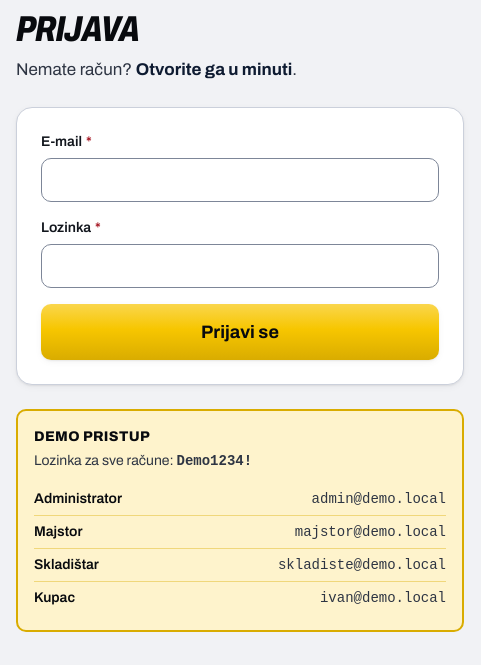
Scenario: obrazac za prijavu › neuspjelu prijavu objašnjava korisniku
Type "ivan@demo.local" into the field labelled "E-mail*".
click(240, 180); type("ivan@demo.local")  # box [41,158,439,202]
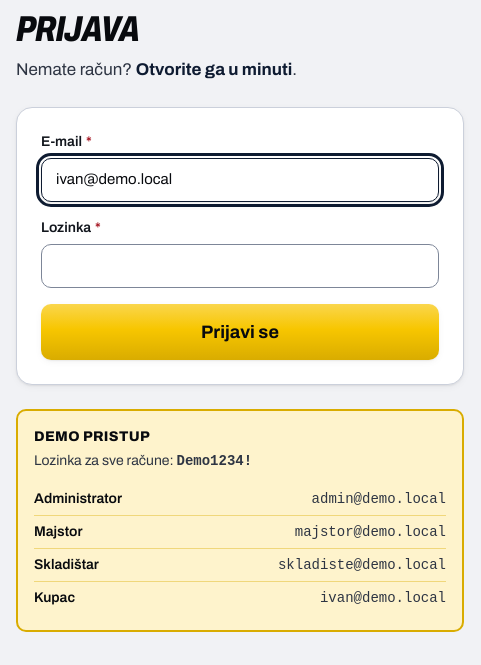
Type "krivo" into the password field labelled "Lozinka*".
click(240, 266); type("krivo")  # box [41,244,439,288]
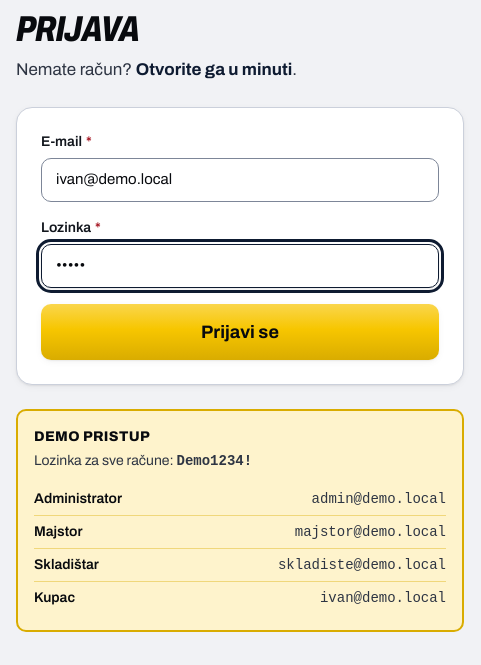
Click the button "Prijavi se".
click(240, 332)  # box [41,304,439,360]
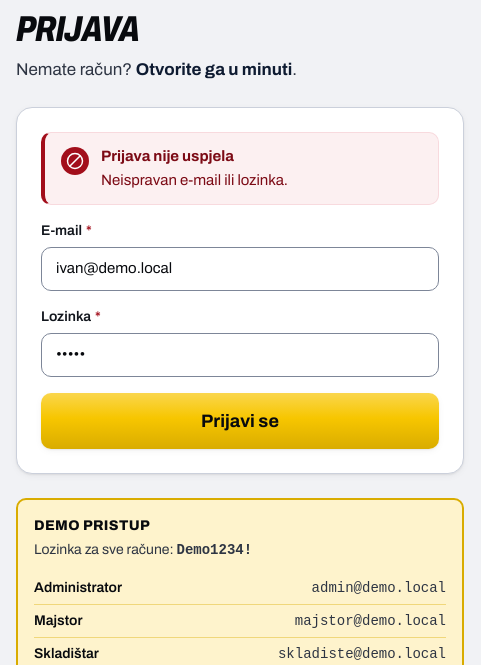
Now the text "Neispravan e-mail ili lozinka." is shown, box [101,169,288,192]
